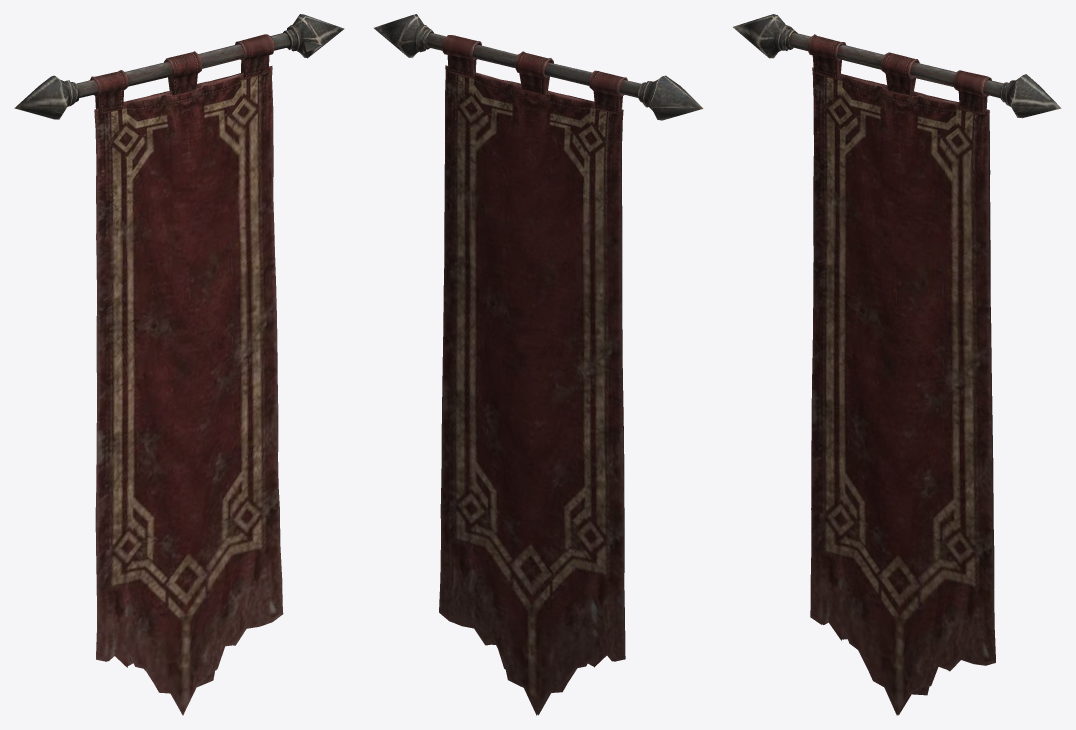
Rendered from d_banner_patternA_red.glb.
3 renders of one model, left to right at view 1: azimuth 30°, elevation 25°; view 2: azimuth 150°, elevation 25°; view 3: azimuth 330°, elevation 25°, orthographic.
Parts seen in each view (by area): view 1: d_banner_patternA_red; view 2: d_banner_patternA_red; view 3: d_banner_patternA_red.
Part boxes in pixels (left/top/right/bottom): d_banner_patternA_red: left=14, top=14, right=344, bottom=715; d_banner_patternA_red: left=374, top=14, right=703, bottom=715; d_banner_patternA_red: left=733, top=14, right=1061, bottom=715.
Size of the model in its own units: 1.65 by 3.2 by 0.2517.
1 material, 1 textured.
